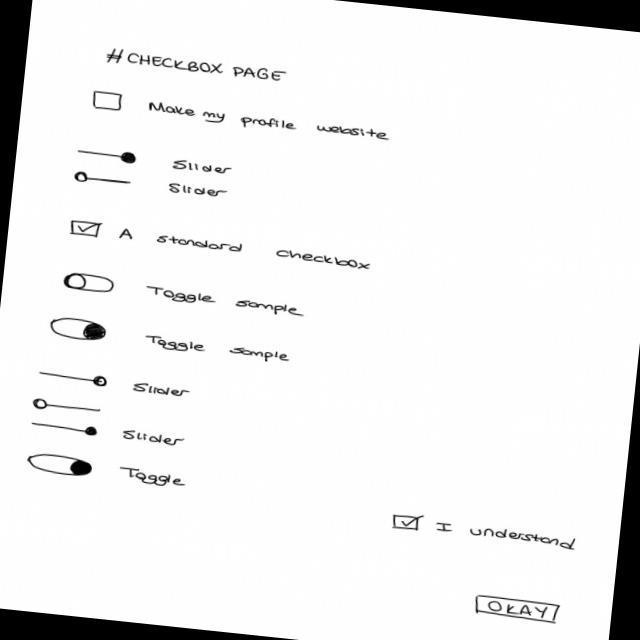button: (474, 593, 563, 626)
checkbox: (90, 90, 396, 145), (70, 219, 376, 272), (390, 512, 579, 553)
label: (104, 47, 289, 86), (141, 286, 307, 320), (145, 333, 294, 365), (117, 465, 187, 490), (171, 157, 238, 178), (122, 429, 191, 449), (168, 181, 231, 201), (130, 381, 193, 399)
slider: (37, 369, 111, 389), (33, 397, 105, 417), (76, 146, 141, 168), (29, 419, 100, 439), (73, 169, 134, 189)
toggle: (25, 451, 95, 479), (49, 315, 110, 345), (62, 271, 117, 296)
